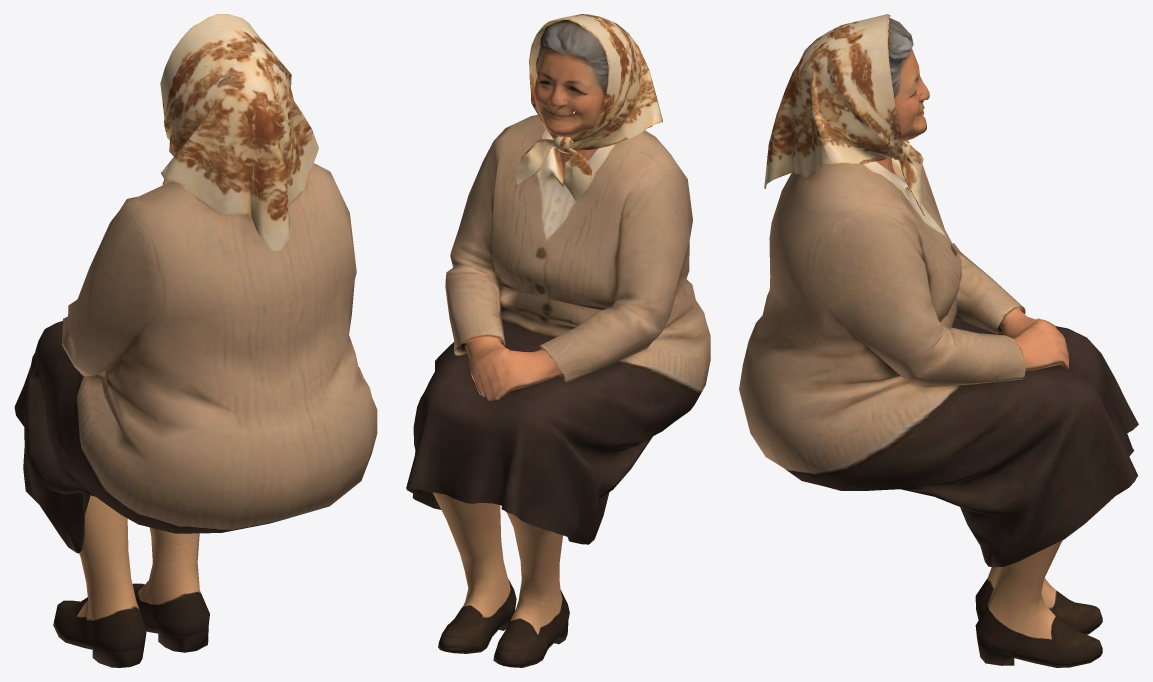
File: grandma_scarf.glb
3 renders of one model, left to right at view 1: azimuth 30°, elevation 25°; view 2: azimuth 150°, elevation 25°; view 3: azimuth 270°, elevation 25°, orthographic. The views are drawn at different scales.
Visible parts, largest first — view 1: Body; view 2: Body; view 3: Body.
Part boxes in pixels (x1,y1,x2,y2): Body: (14, 14, 377, 667); Body: (406, 14, 710, 667); Body: (739, 14, 1138, 667).
Size of the model in its own units: 0.5629 by 1.38 by 0.7993.
Materials: 1 (1 with a texture image).
